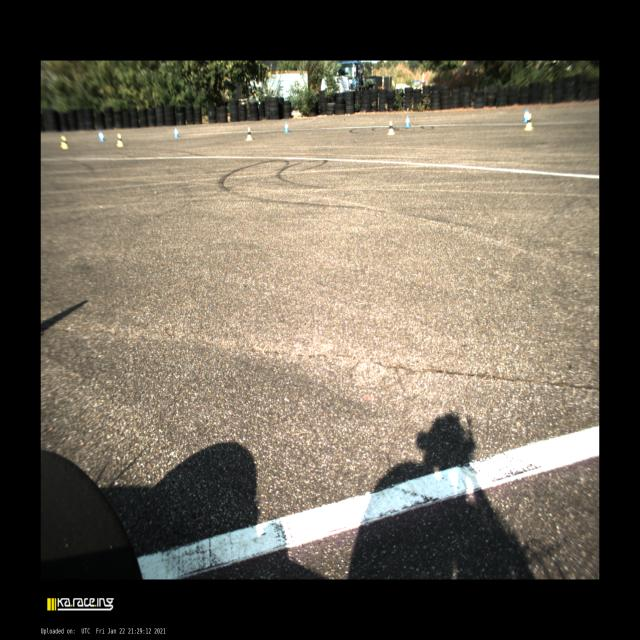blue_cone: (523, 109, 528, 122), (405, 115, 410, 126), (284, 121, 289, 132), (174, 128, 179, 138), (100, 132, 105, 142)
yellow_cone: (524, 114, 532, 129), (60, 136, 68, 149), (387, 120, 394, 134), (246, 127, 253, 140), (117, 134, 123, 147)
